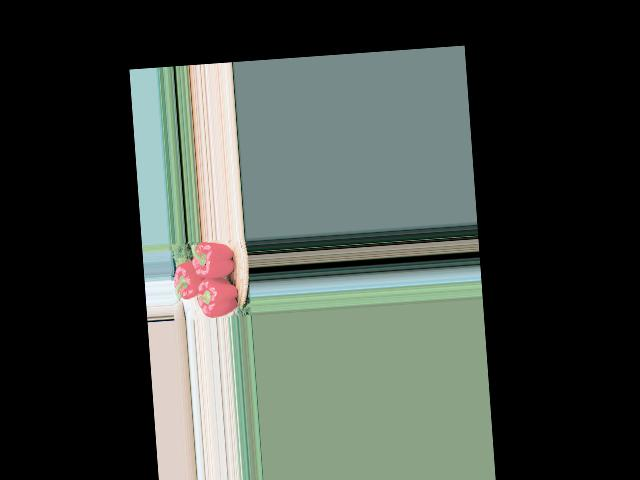bell_pepper: (190, 240, 240, 284)
